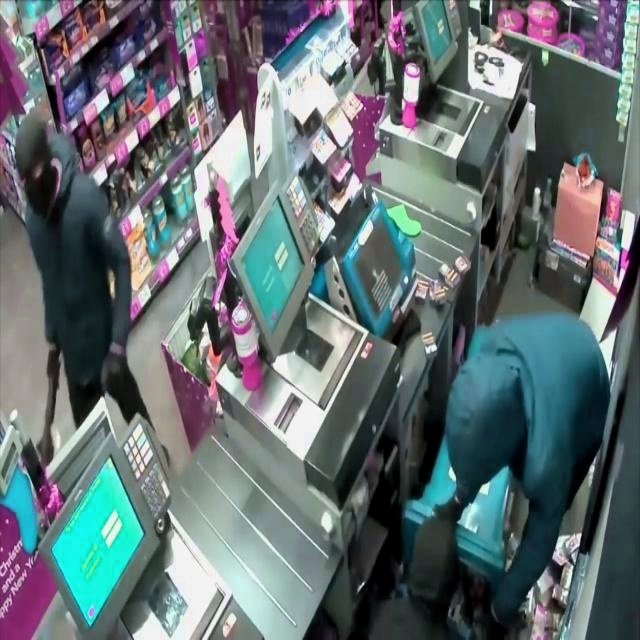gun: (31, 338, 63, 463)
